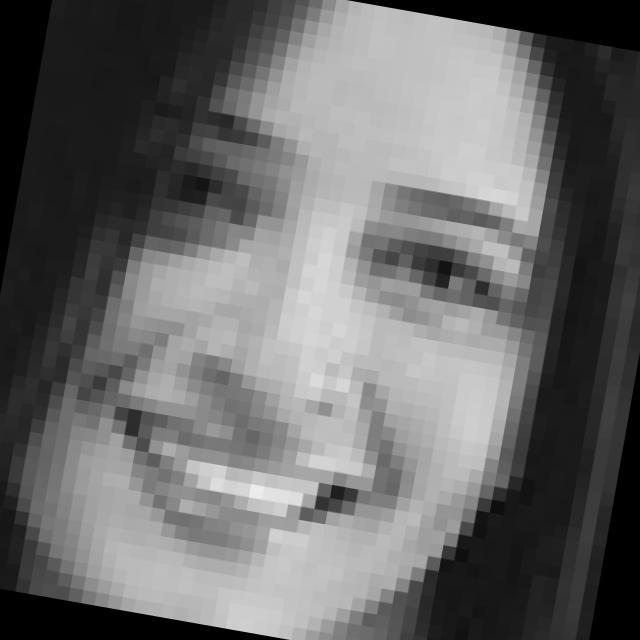happy: (51, 87, 558, 596)
